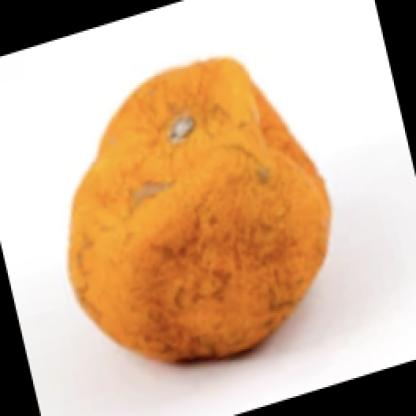rotten: (69, 56, 332, 364)
